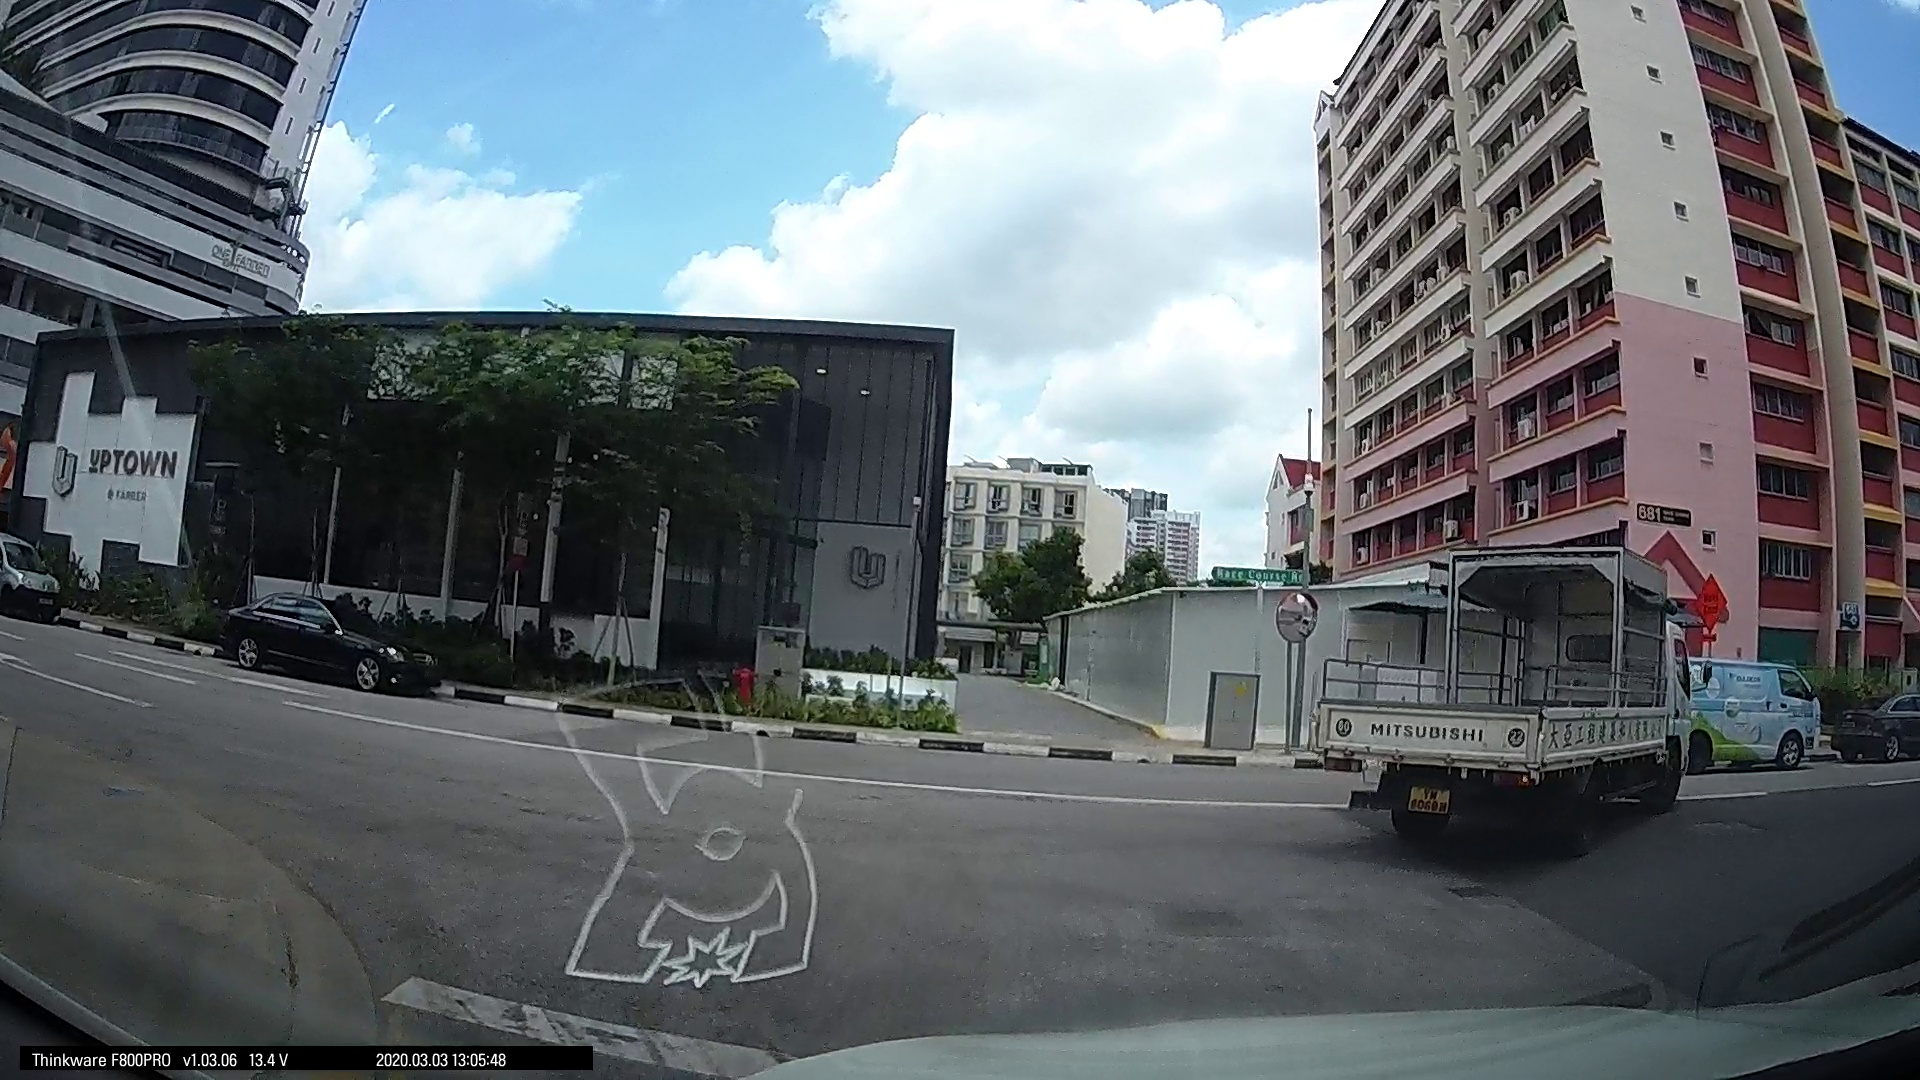Heavy Vehicle: (1305, 543, 1691, 841)
Light Vehicle: (214, 585, 427, 694), (1671, 654, 1825, 770), (1832, 684, 1919, 766)
